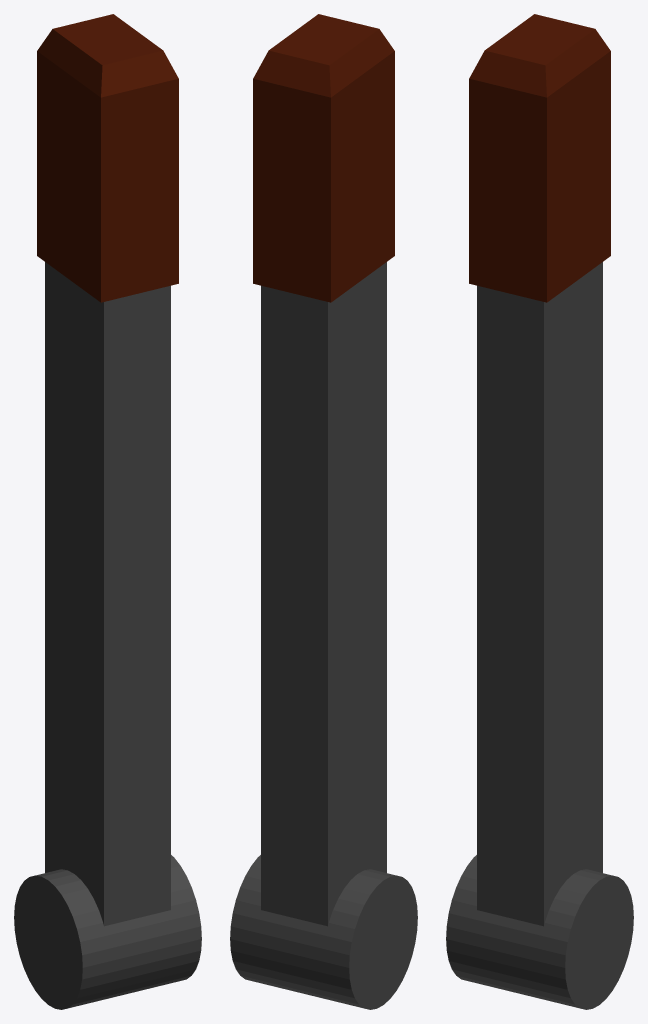
The model's file is BrownLeverWOB.glb.
The picture shows the model from 3 angles, left to right: view 1: azimuth 30°, elevation 25°; view 2: azimuth 150°, elevation 25°; view 3: azimuth 330°, elevation 25°; orthographic projection.
Visible parts, largest first — view 1: Handle, Top; view 2: Handle, Top; view 3: Handle, Top.
Part boxes in pixels (x1,y1,x2,y2): Handle: [14, 262, 201, 1009]; Top: [37, 14, 178, 302]; Handle: [230, 262, 417, 1009]; Top: [253, 14, 394, 302]; Handle: [446, 262, 633, 1009]; Top: [469, 14, 610, 302].
Size of the model in its own units: 0.1393 by 1.06 by 0.1393.
